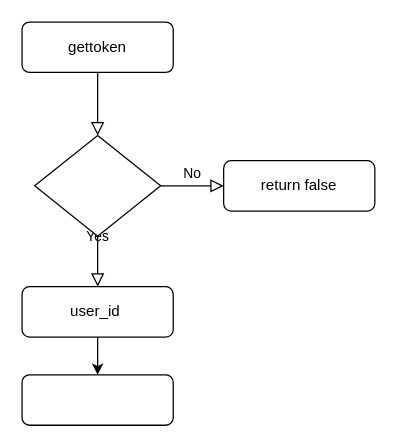
Some shapes in this 397 by 447 pixel diagram are drawn without their labels. The centre of each missing label's shape, as x and y in pixels:
"Compare token" belongs at (97,185).
"Repair Lamp" belongs at (97,399).
